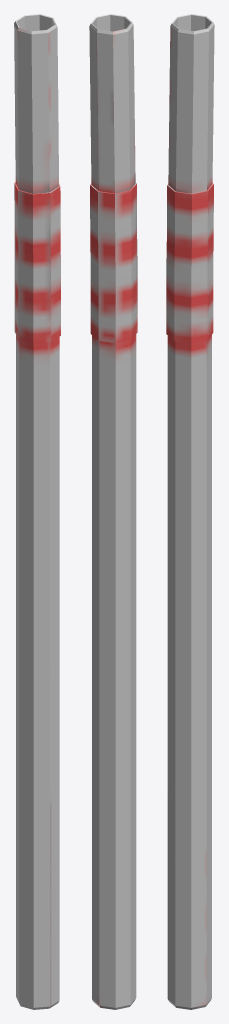
File: Straw.fbx
3 renders of one model, left to right at view 1: azimuth 90°, elevation 25°; view 2: azimuth 150°, elevation 25°; view 3: azimuth 330°, elevation 25°, orthographic.
Visible parts, largest first — view 1: Cylinder; view 2: Cylinder; view 3: Cylinder.
Part boxes in pixels (<box>): Cylinder: <box>14,14,60,1009</box>; Cylinder: <box>89,14,137,1009</box>; Cylinder: <box>166,14,214,1009</box>.
Bounding box in the file's own units: 8.41 × 195 × 8.45.
